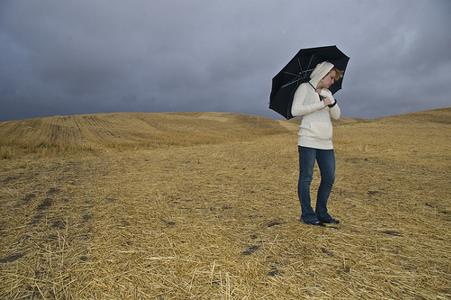person: (291, 61, 342, 226)
